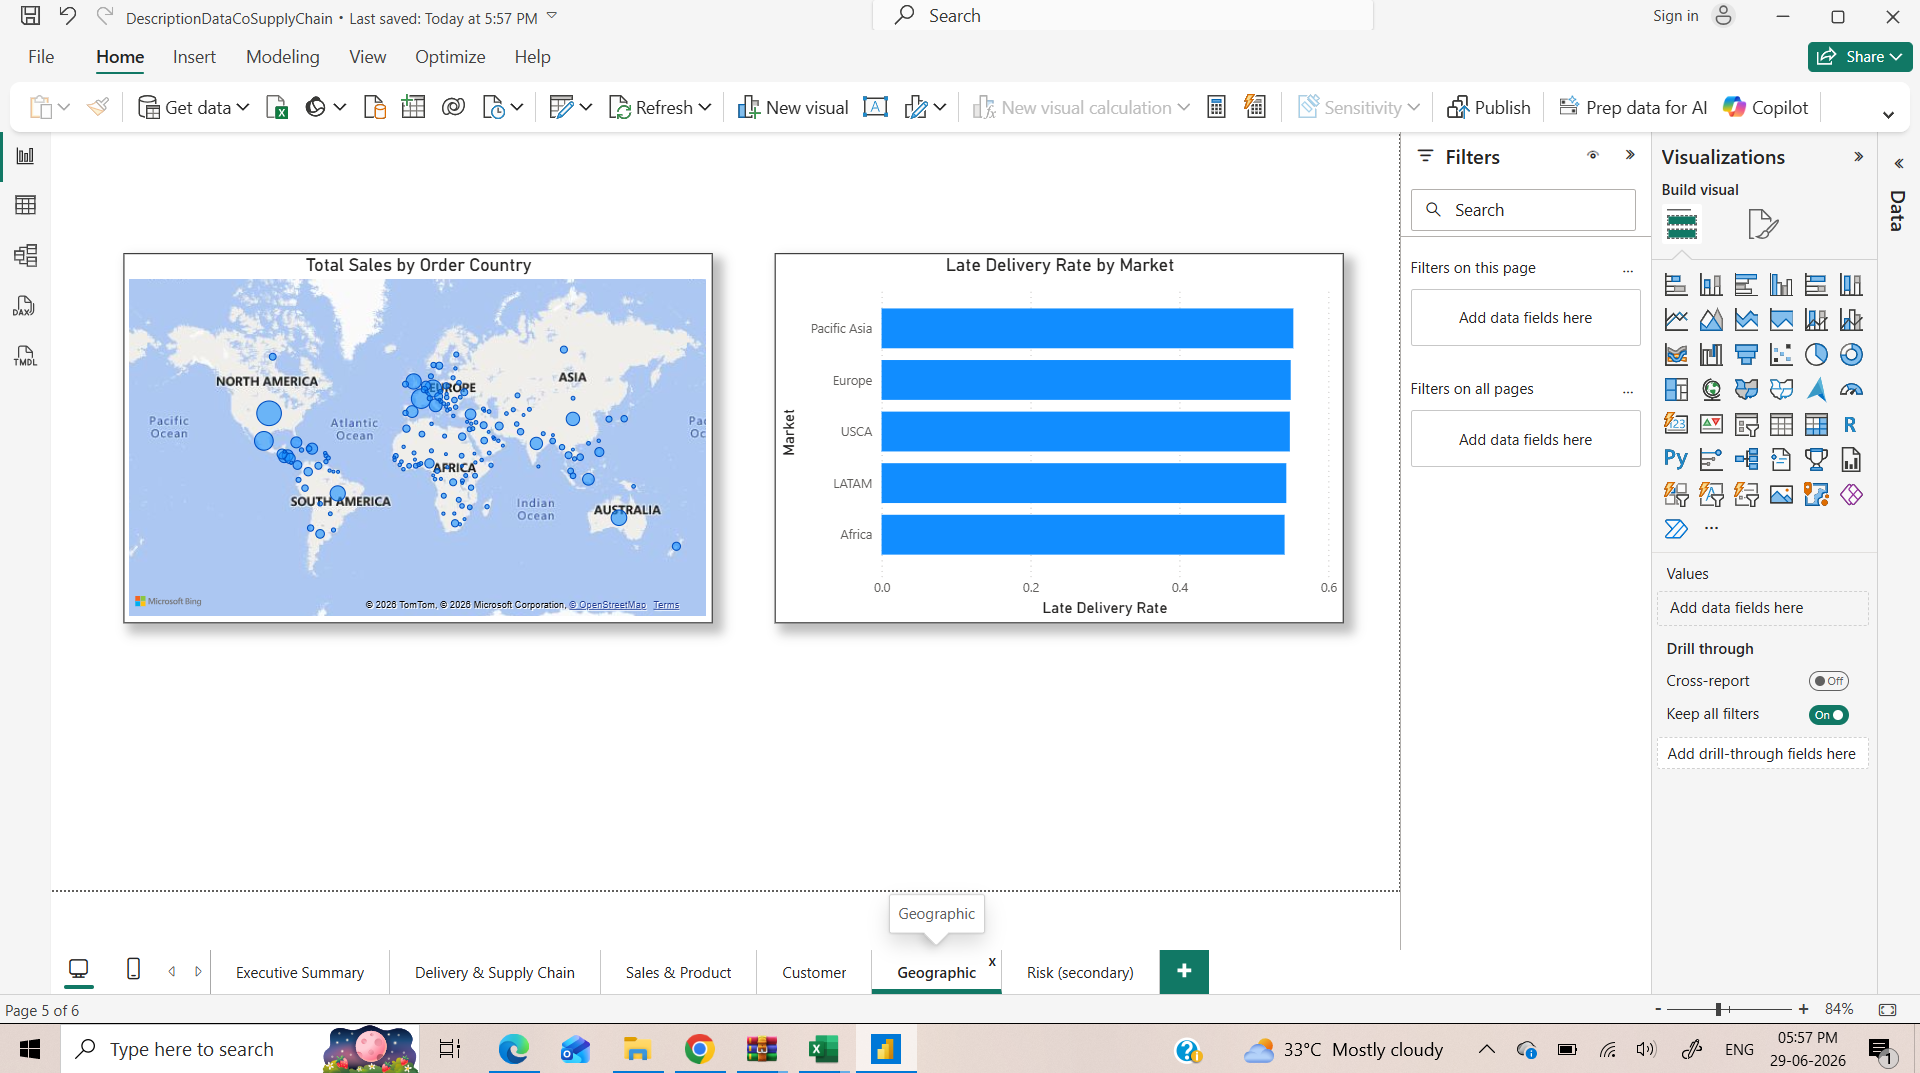

Layout of this report page (visuals, bound fields, positions):
{"tool":"powerbi","page":{"name":"Geographic","canvas":[1280,720],"ordinal":4},"visuals":[{"type":"map","fields":{"Category":["Dim_Geography.Order Country"],"Size":["_Measures.Total Sales"]},"box":[68.8,115.1,558.8,351.2],"z":0},{"type":"clusteredBarChart","fields":{"Category":["Dim_Geography.Market"],"Y":["_Measures.Late Delivery Rate"]},"box":[687,115.1,539.9,351.2],"z":1}]}

Visuals, with their boxes on the page's 1280x720 design canvas (x1, y1, x2, y2). These are canvas units, not pixel positions in the 1920x1073 screenshot, which may show the page scaled, cropped or inside an application window:
map - Dim_Geography.Order Country x _Measures.Total Sales: <bbox>69, 115, 628, 466</bbox>
clusteredBarChart - Dim_Geography.Market x _Measures.Late Delivery Rate: <bbox>687, 115, 1227, 466</bbox>
